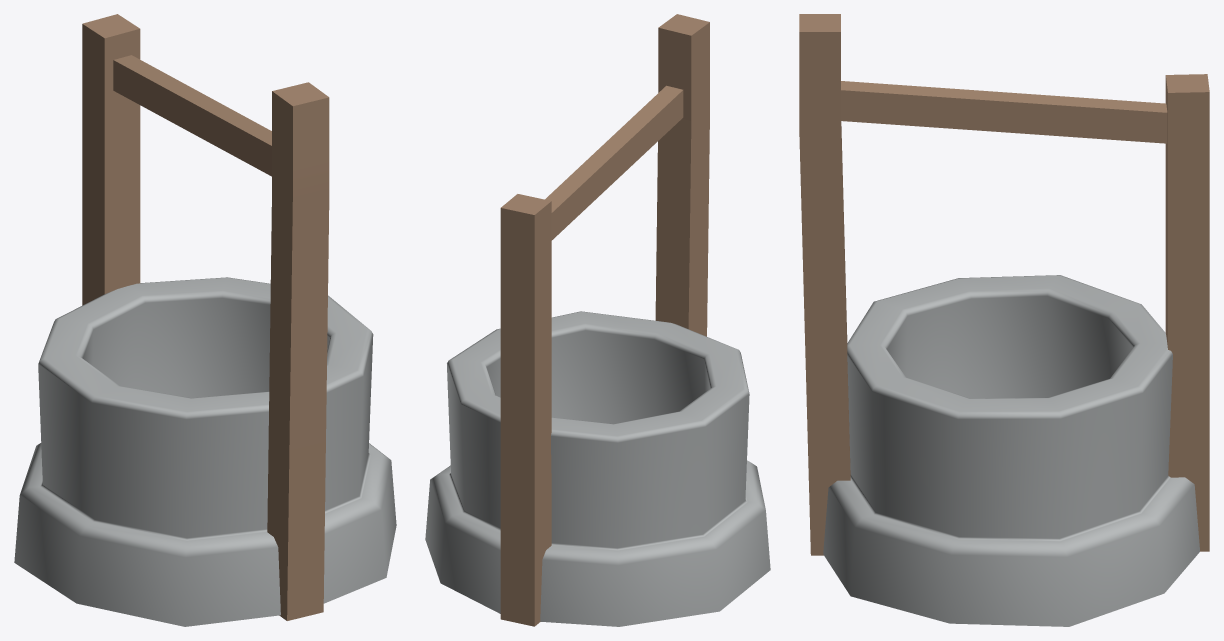
File: Mod_Well.fbx
3 renders of one model, left to right at view 1: azimuth 30°, elevation 25°; view 2: azimuth 150°, elevation 25°; view 3: azimuth 270°, elevation 25°, orthographic. The views are drawn at different scales.
Visible parts, largest first — view 1: Well; view 2: Well; view 3: Well.
Boxes of the visible parts, x1,y1,x2,y2 form: Well: (14, 14, 396, 626); Well: (425, 14, 770, 626); Well: (799, 14, 1209, 626).
Size of the model in its own units: 187 by 284 by 202.
